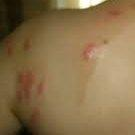Fleas: (78, 40, 104, 65), (16, 70, 31, 104), (38, 80, 46, 95), (23, 39, 32, 52), (6, 42, 12, 54)
